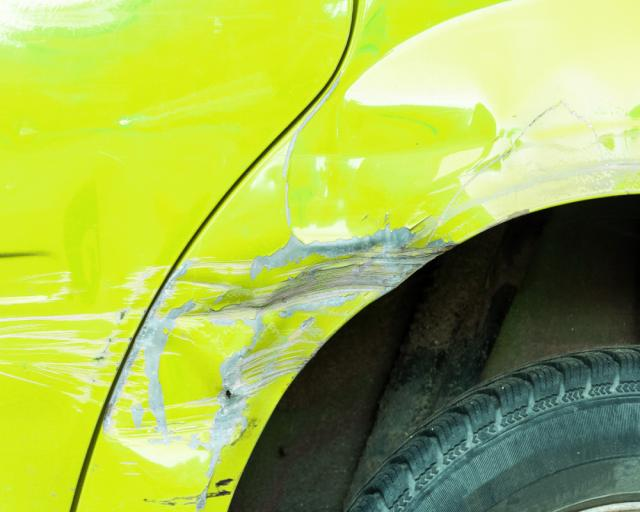dent: (103, 230, 442, 466)
scratch: (0, 264, 170, 408), (443, 104, 640, 223), (146, 474, 239, 512)
